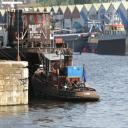tugboat: (31, 50, 103, 104)
